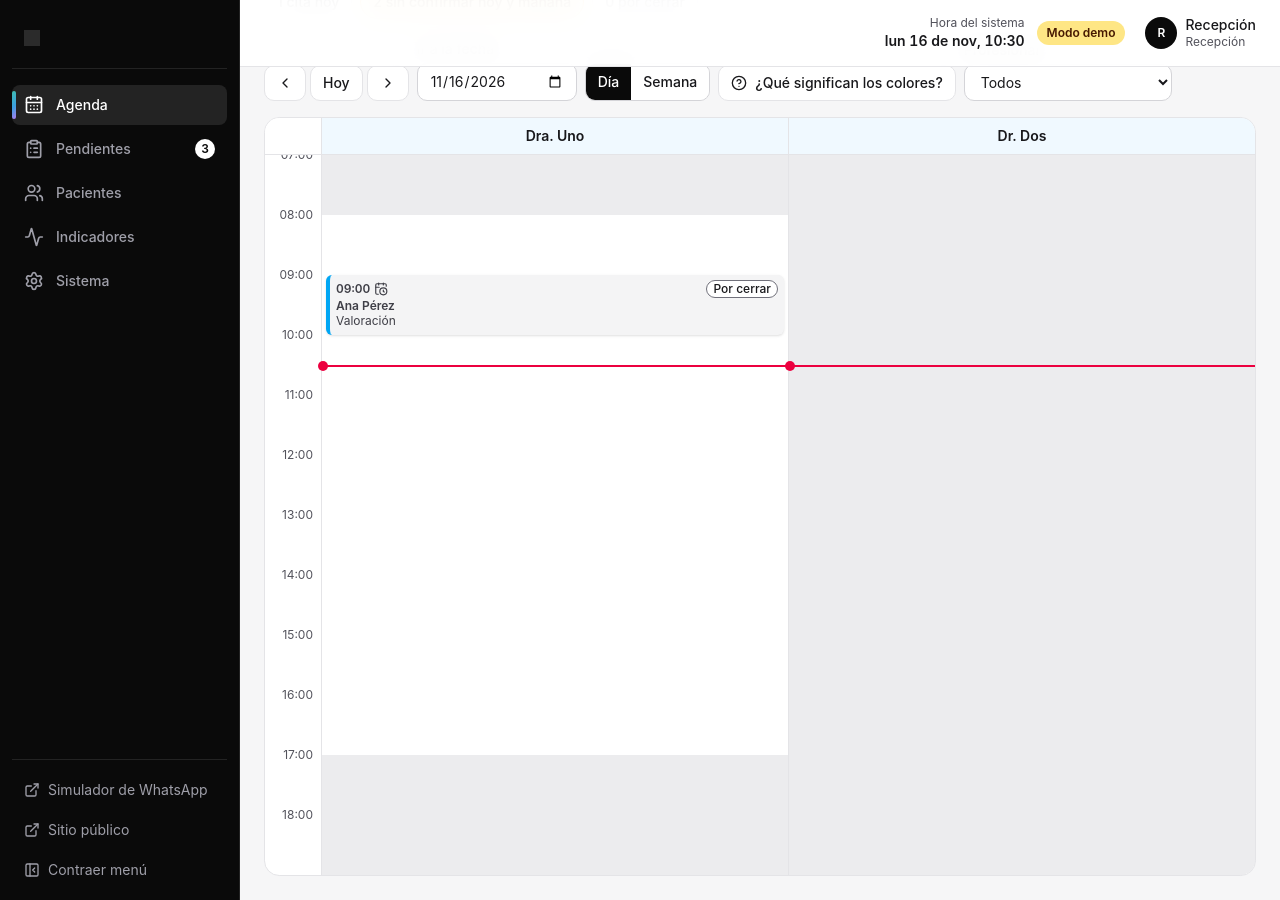
Scenario: navegación por rol › el menú se contrae a solo íconos (con su nombre para lectores y al pasar el ratón) y lo recuerda
Later steps or results of the test are not shown.
(page scrolled)
Click the button "Contraer menú". click: [120, 870]
box: [12,852,227,888]
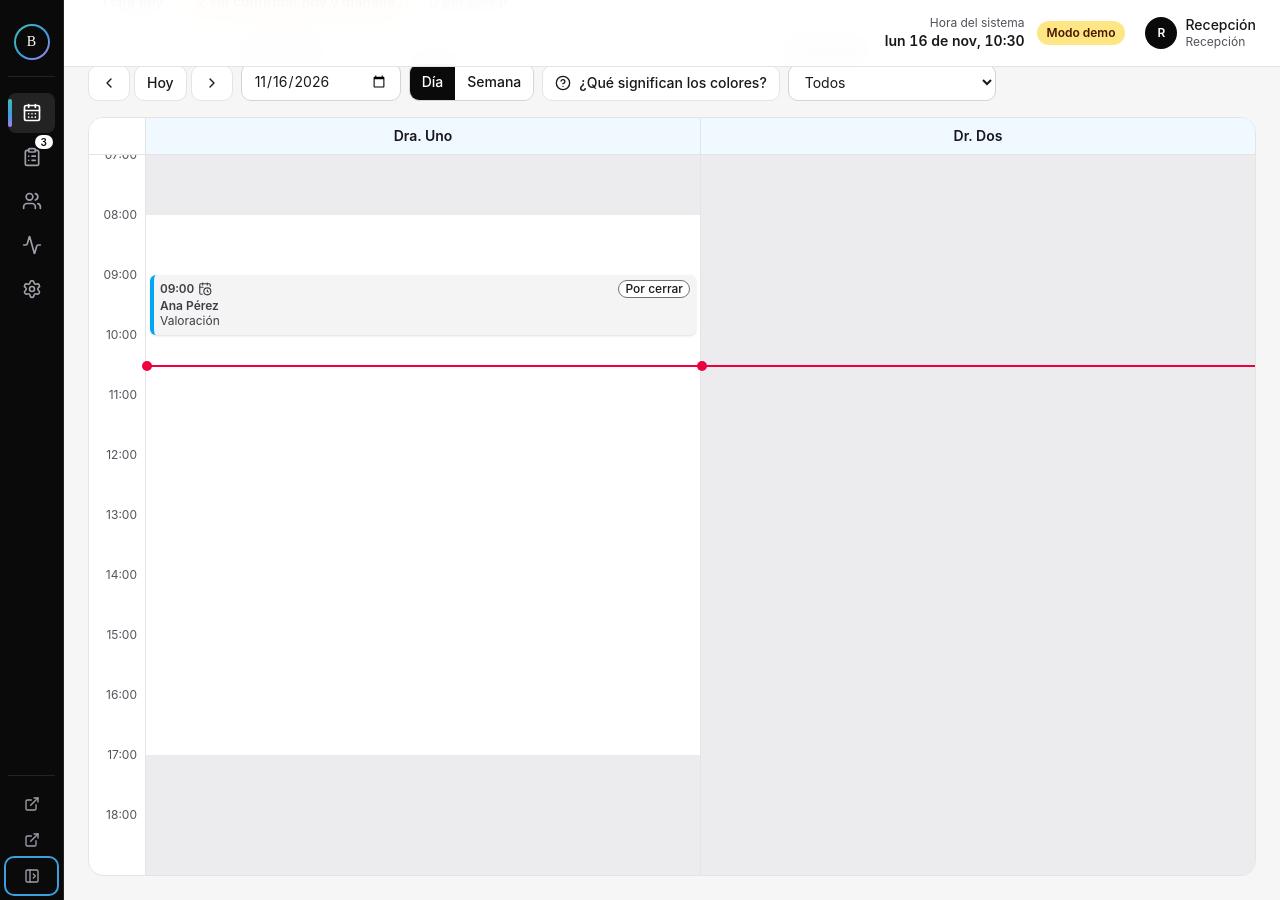
Now the link named "Pacientes" has attribute title="Pacientes", box [8,180,55,220]
